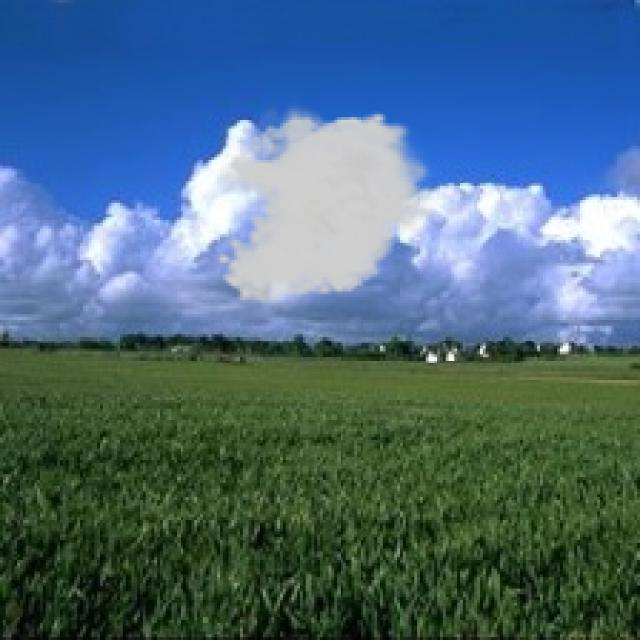smoke: (214, 100, 440, 306)
